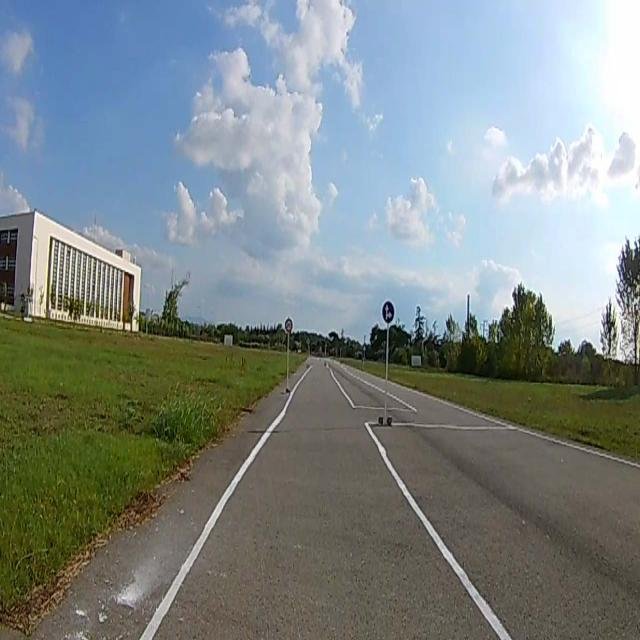ilerisag: (382, 300, 396, 322)
